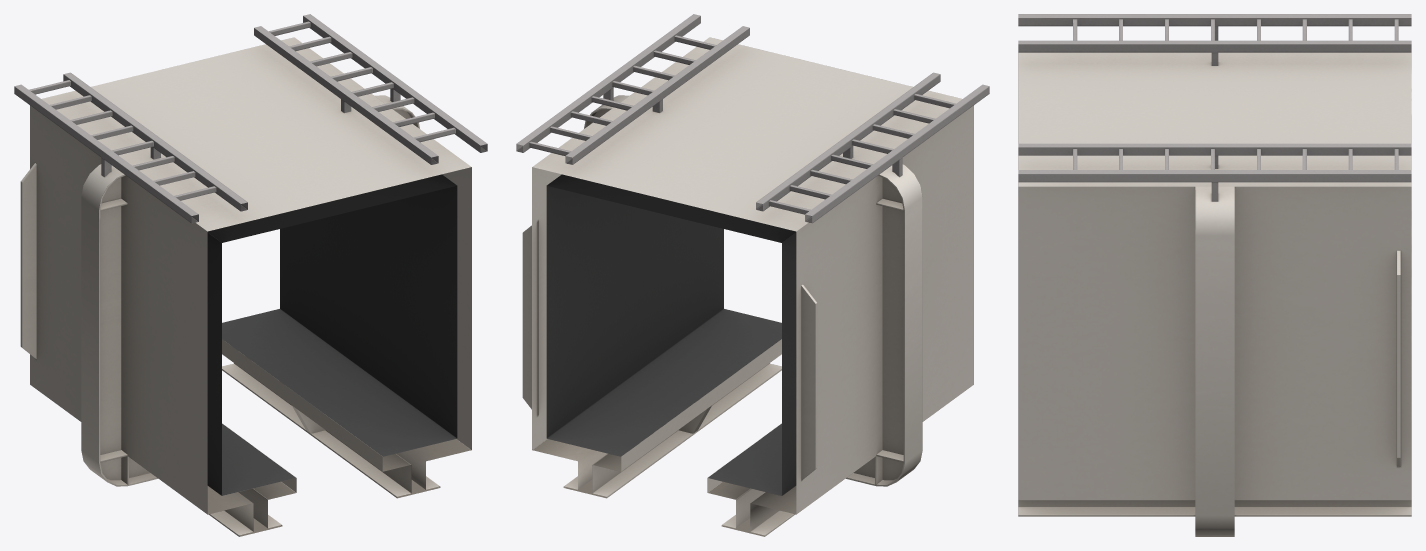
Rendered from rails_regular.obj.
3 views of the same model, side by side, from view 1: azimuth 30°, elevation 25°; view 2: azimuth 150°, elevation 25°; view 3: azimuth 270°, elevation 25° (orthographic). The views are drawn at different scales.
Parts seen in each view (by area): view 1: rails_Cube.002; view 2: rails_Cube.002; view 3: rails_Cube.002.
Boxes of the visible parts, bbox=[...] form: rails_Cube.002: bbox=[14, 14, 487, 536]; rails_Cube.002: bbox=[516, 14, 989, 536]; rails_Cube.002: bbox=[1018, 14, 1411, 536].
Bounding box in the file's own units: 2.24 × 2.21 × 2.14.
Materials: 1 (1 with a texture image).
